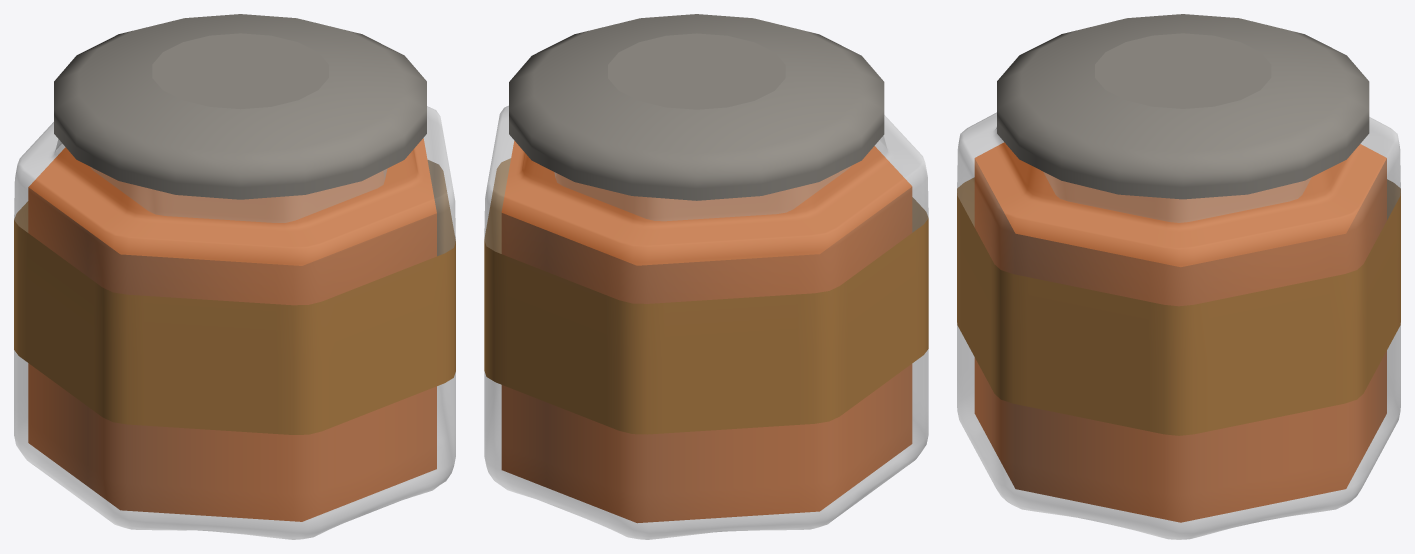
Rendered from jar.fbx.
The picture shows the model from 3 angles, left to right: view 1: azimuth 30°, elevation 25°; view 2: azimuth 150°, elevation 25°; view 3: azimuth 270°, elevation 25°; orthographic projection.
Parts seen in each view (by area): view 1: Jar; view 2: Jar; view 3: Jar.
Boxes of the visible parts, bbox=[...] form: Jar: bbox=[14, 14, 455, 539]; Jar: bbox=[484, 14, 928, 539]; Jar: bbox=[957, 14, 1400, 539].
Size of the model in its own units: 3882 by 3757 by 3952.
